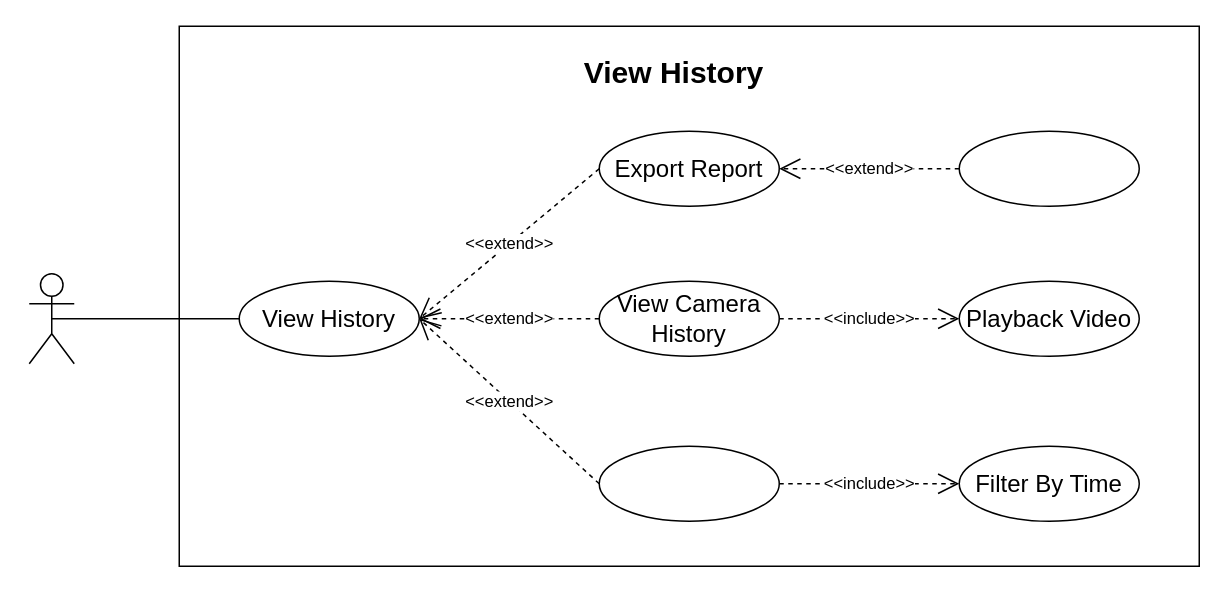
This 1226x593 diagram has some shape labels left out. The shapes that lost their labels are listed below. From the top down, each one's box as (x1, y1, x2, y2) in pixels, then its label:
(958, 130, 1139, 206): Export CSV / PDF
(28, 272, 74, 364): User
(598, 445, 779, 521): View Device Activity Log
